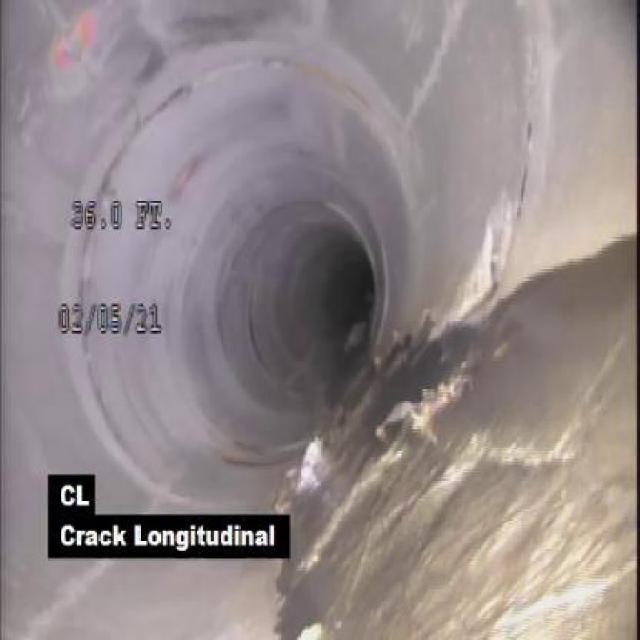Crack: (435, 109, 548, 331), (454, 432, 568, 474), (46, 2, 99, 88)
